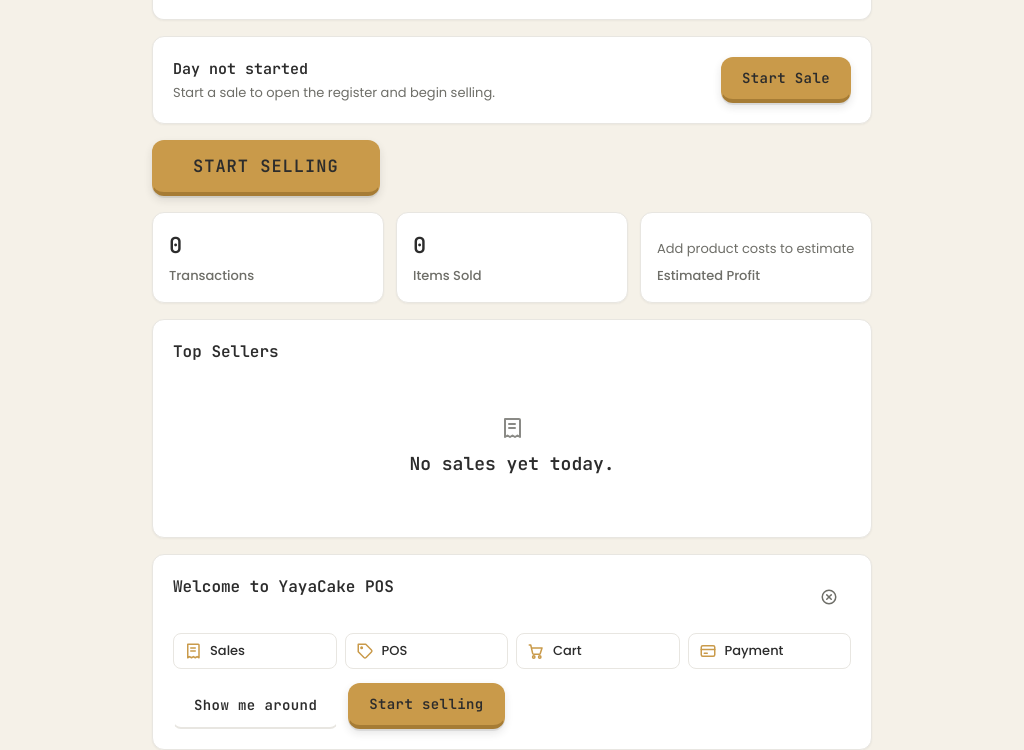
Test: DashboardPage › shows the walkthrough and dismisses it on X
(page scrolled)
Check: the heading "Welcome to YayaCake POS" is shown, box x1=173 y1=575 x2=394 y2=599
Check: the text "Sales" is shown, box x1=210 y1=641 x2=245 y2=660
Click the button named "Dismiss walkthrough".
click(829, 597)  # box x1=807 y1=575 x2=851 y2=619
(page scrolled)
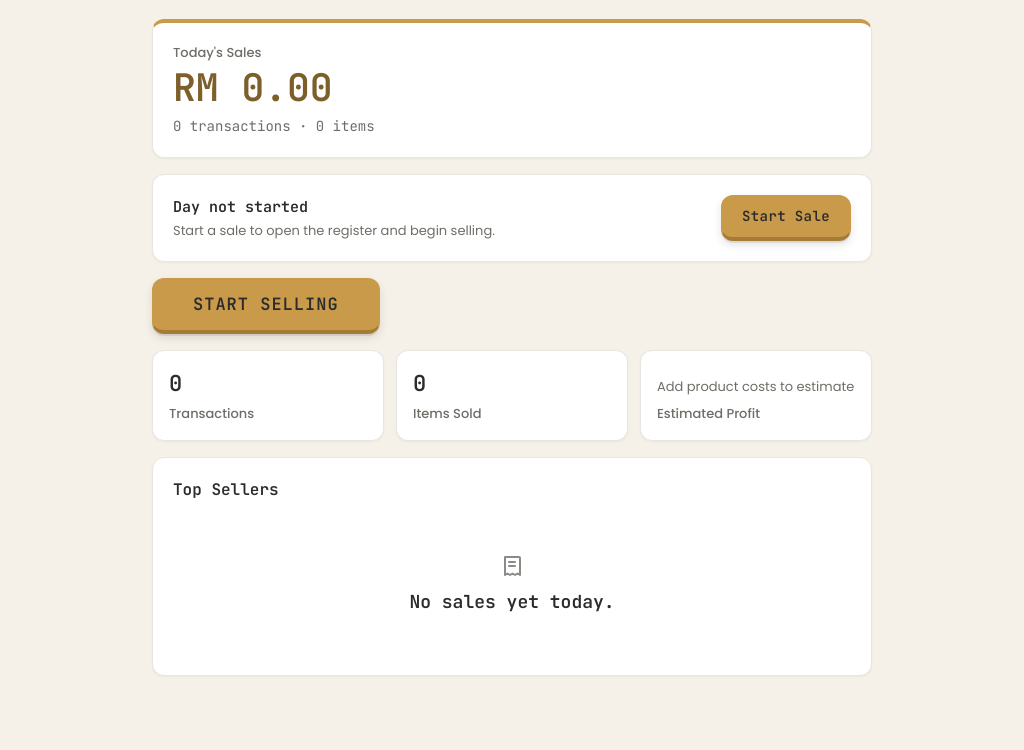
Check: the heading "Welcome to YayaCake POS" is gone
